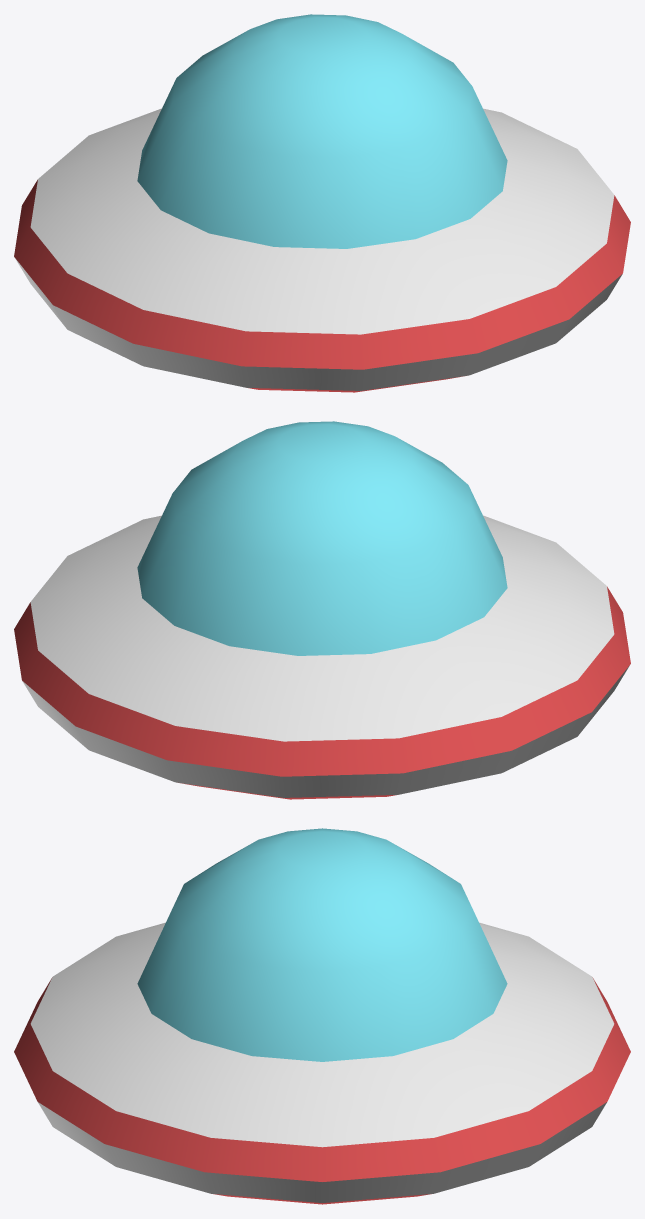
The model's file is Saucer.fbx.
3 renders of one model, top to bottom at view 1: azimuth 30°, elevation 25°; view 2: azimuth 150°, elevation 25°; view 3: azimuth 270°, elevation 25°, orthographic.
Visible parts, largest first — view 1: Saucer; view 2: Saucer; view 3: Saucer.
Boxes of the visible parts, box(x1,y1,x2,y2) form: Saucer: box(14, 14, 630, 392); Saucer: box(14, 421, 630, 799); Saucer: box(14, 828, 630, 1204).
Bounding box in the file's own units: 5 × 2.23 × 5.
